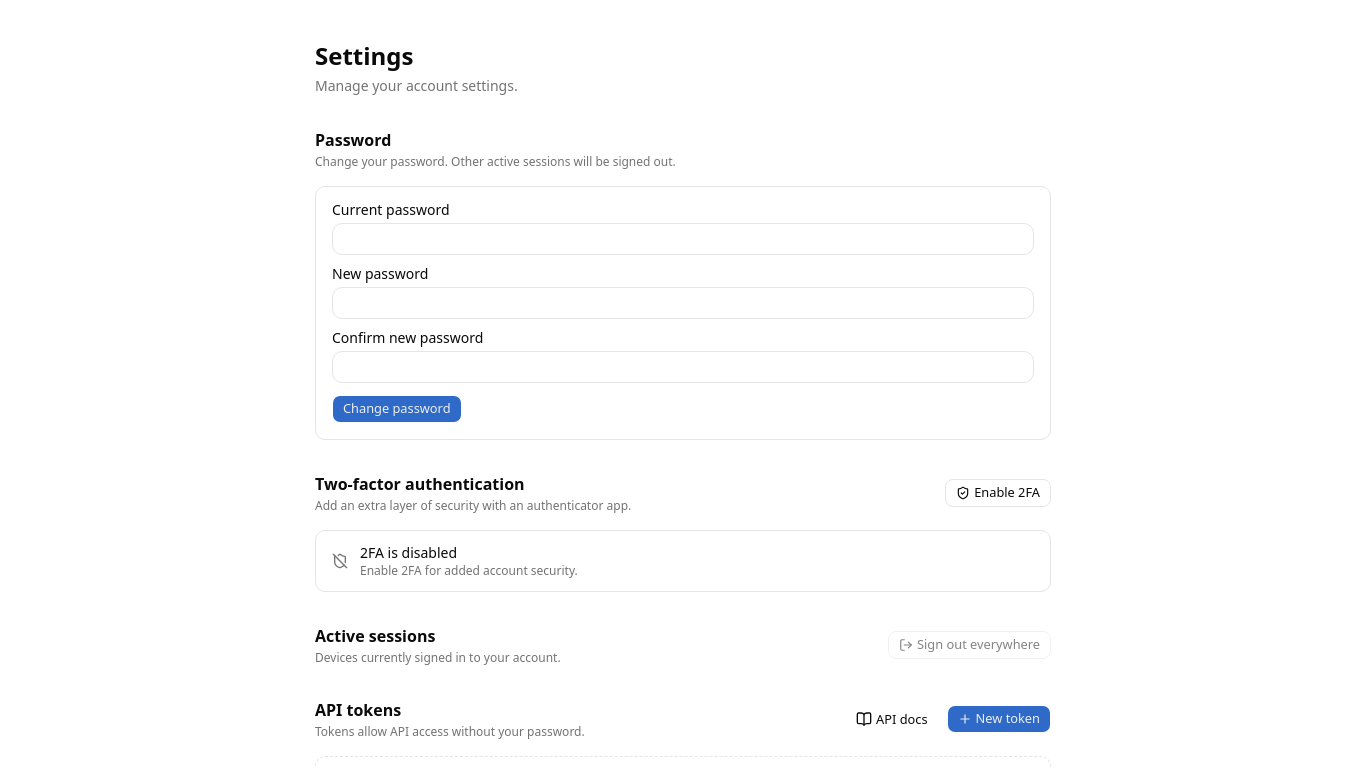
Test: labels each plugin's own scope group with the plugin key
The width and height of the screenshot is (1366, 768).
Click the button "New token". click: {"x": 999, "y": 719}
box: [947, 705, 1051, 733]
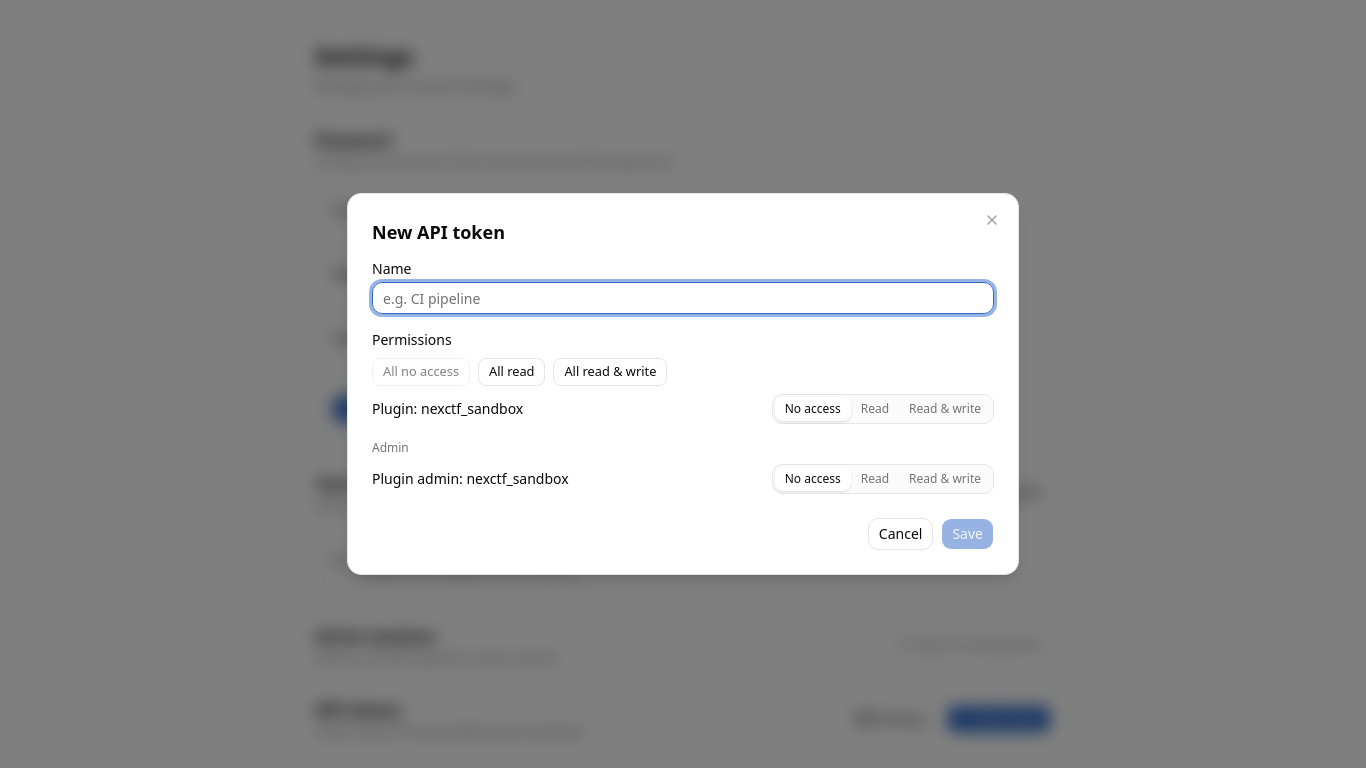
Now the radio button with aria-label "Plugin: nexctf_sandbox: Read" is shown, box [861, 400, 889, 417]
Now the radio button with aria-label "Plugin admin: nexctf_sandbox: Read" is shown, box [861, 470, 889, 487]
